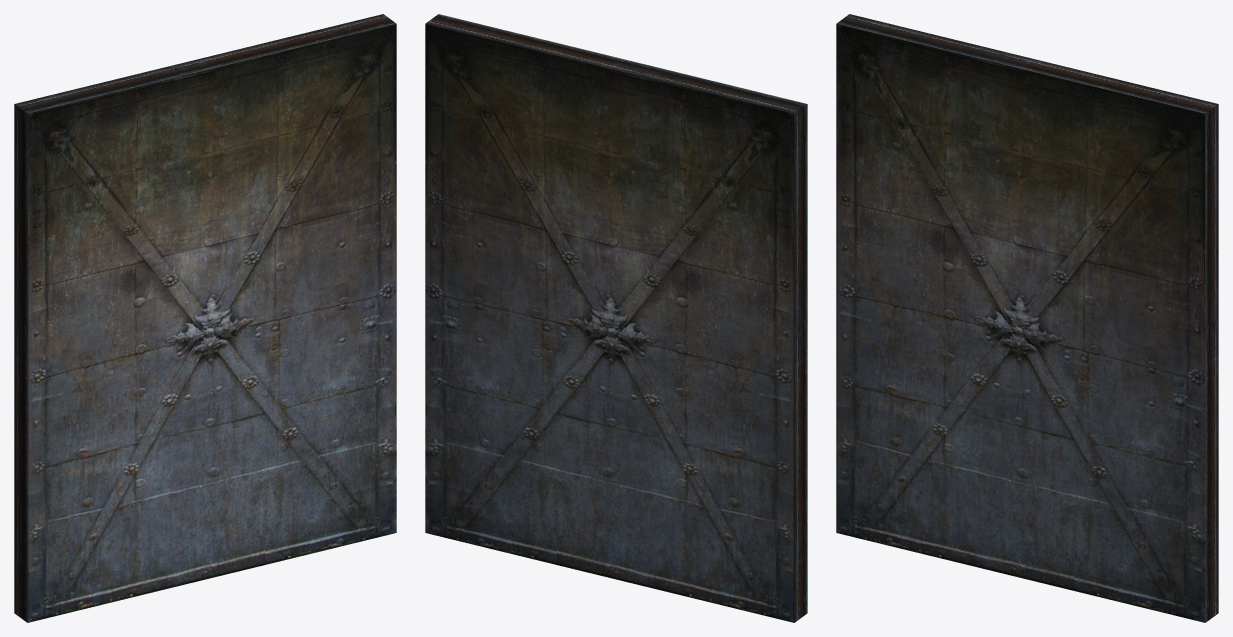
The model's file is Door.fbx.
The picture shows the model from 3 angles, left to right: view 1: azimuth 30°, elevation 25°; view 2: azimuth 150°, elevation 25°; view 3: azimuth 330°, elevation 25°; orthographic projection.
Visible parts, largest first — view 1: SMO_BG00_bridge_0020; view 2: SMO_BG00_bridge_0020; view 3: SMO_BG00_bridge_0020.
Part boxes in pixels (bbox=[...]): SMO_BG00_bridge_0020: bbox=[14, 14, 396, 622]; SMO_BG00_bridge_0020: bbox=[425, 14, 807, 622]; SMO_BG00_bridge_0020: bbox=[836, 14, 1218, 622].
Bounding box in the file's own units: 645 × 851 × 40.
